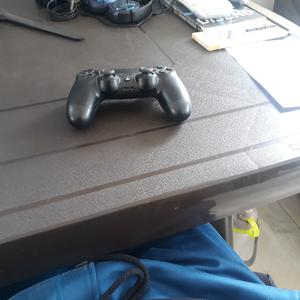controller: (66, 65, 192, 129)
